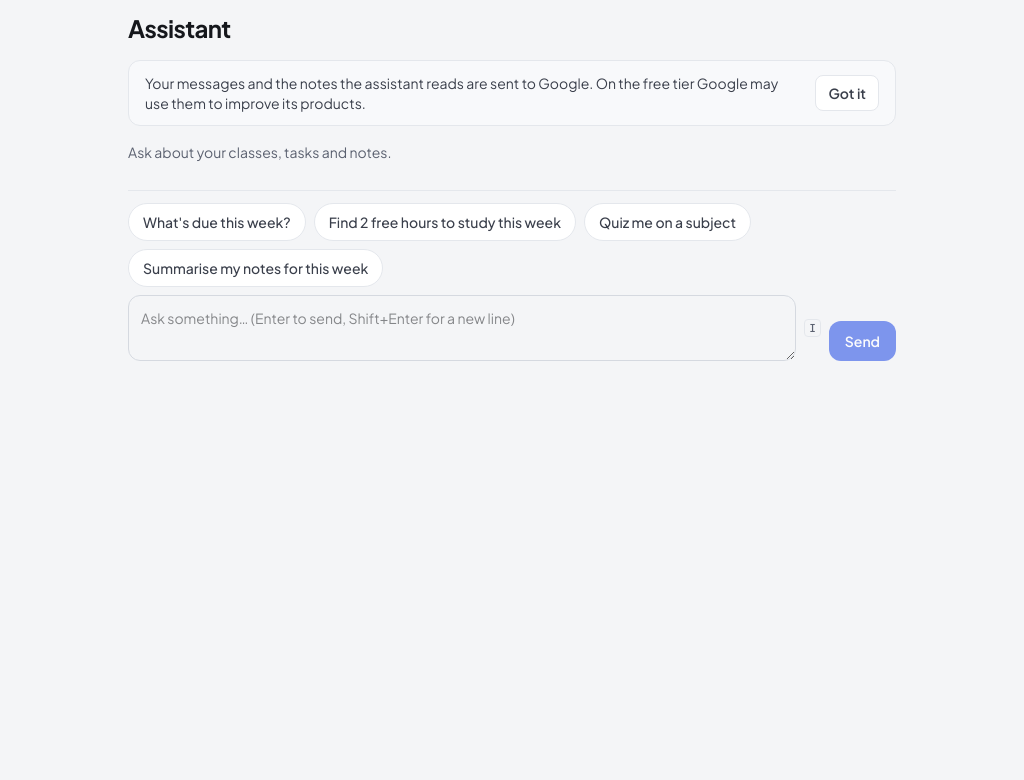
Scenario: AssistantPage › shows the limit message when the server answers 429
The image size is (1024, 780).
Step 1. Type "hello" into the text box named "Message the assistant" → (462, 328), box [128,295,796,361]
Then press Enter
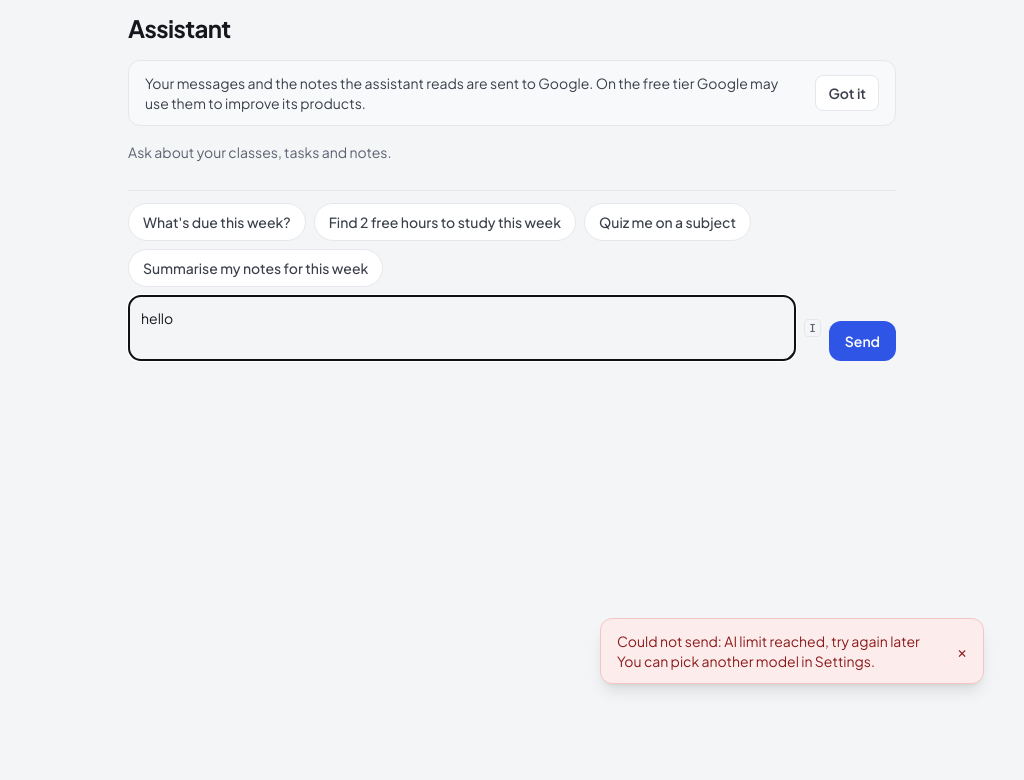
Check: the text "AI limit reached, try again later" is shown, box [617,632,920,670]
